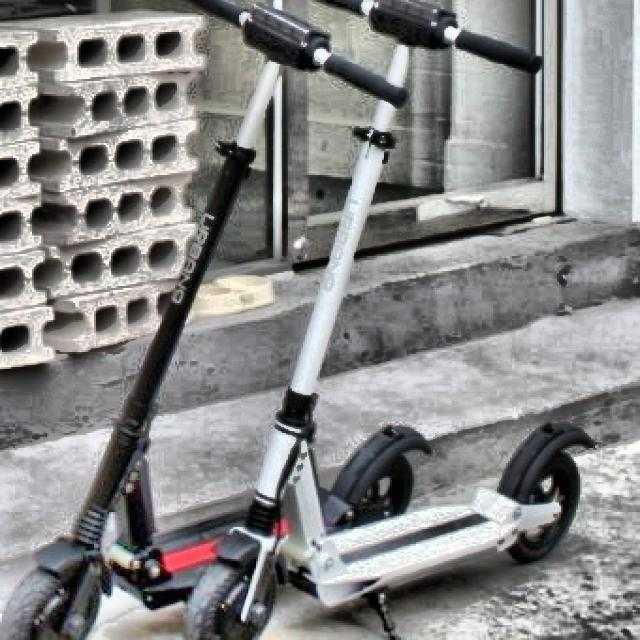bike: (175, 2, 599, 640)
